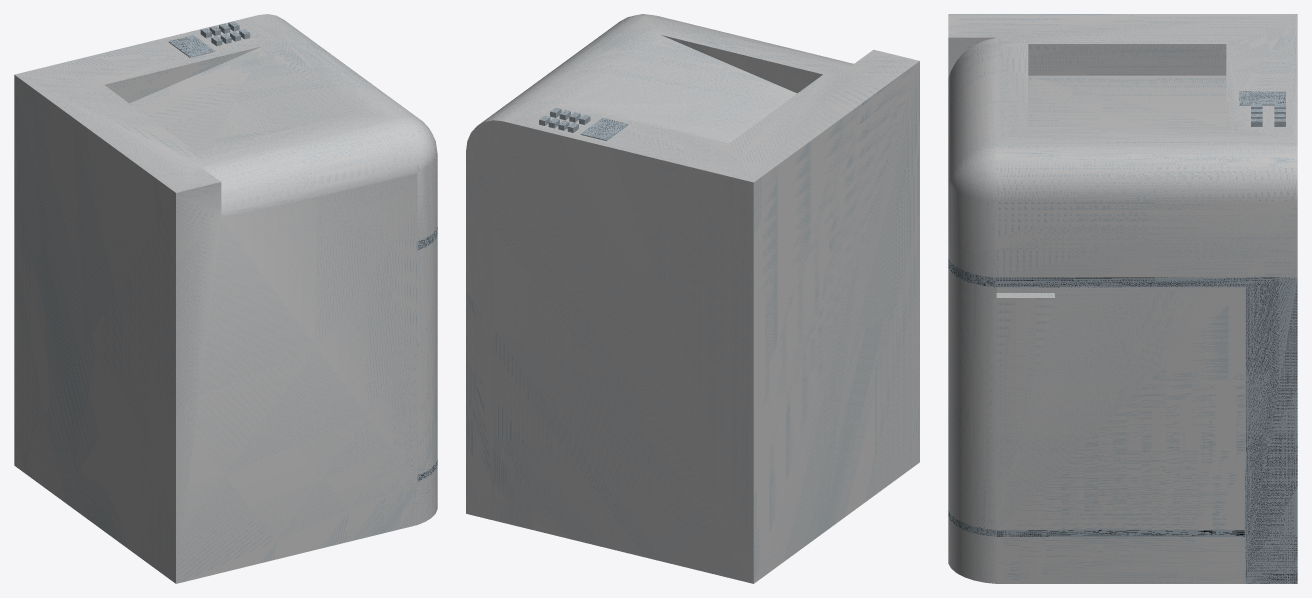
File: classic_printer.fbx
3 renders of one model, left to right at view 1: azimuth 30°, elevation 25°; view 2: azimuth 150°, elevation 25°; view 3: azimuth 270°, elevation 25°, orthographic. The views are drawn at different scales.
Visible parts, largest first — view 1: Component_15_1; view 2: Component_15_1; view 3: Component_15_1.
Part boxes in pixels (left/top/right/bottom): Component_15_1: left=14, top=14, right=437, bottom=583; Component_15_1: left=466, top=14, right=919, bottom=583; Component_15_1: left=948, top=14, right=1297, bottom=583.
Size of the model in its own units: 28.8 by 38.88 by 28.8.
